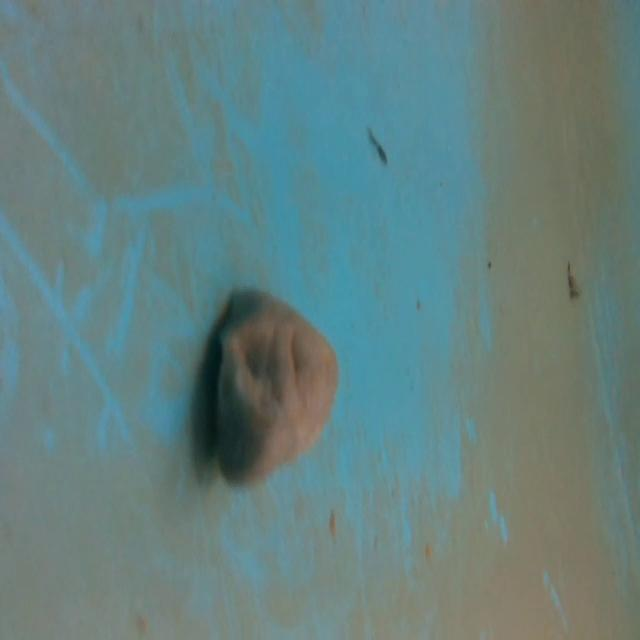rock: (188, 282, 345, 497)
